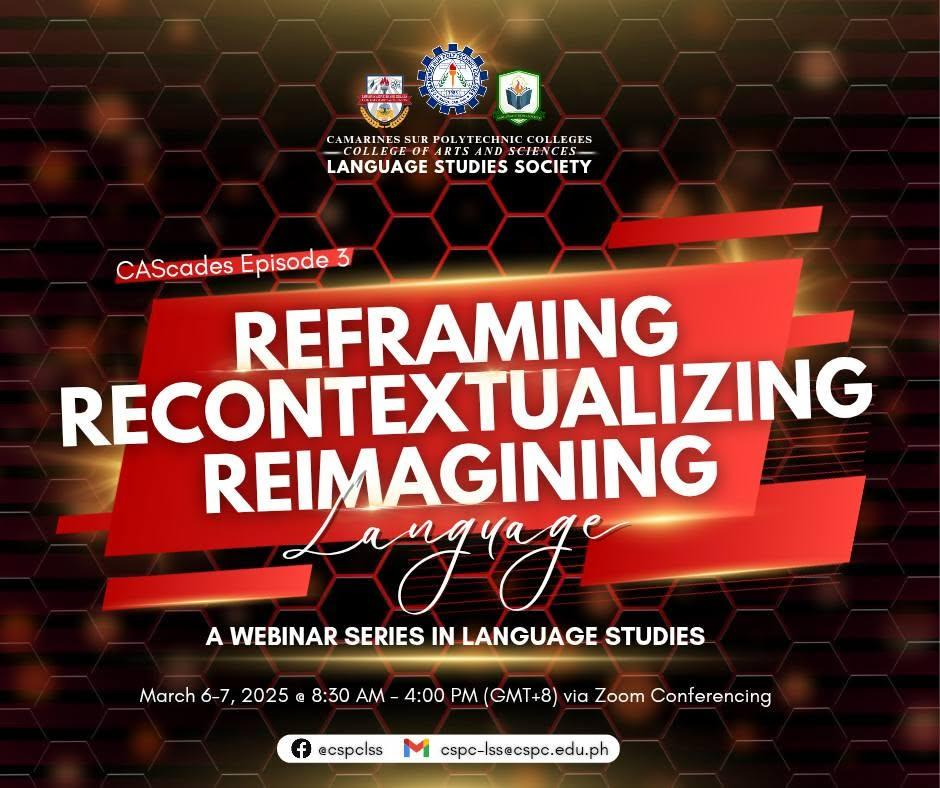embellishment: (400, 736, 433, 758), (290, 736, 311, 762)
logo: (416, 34, 489, 120), (354, 64, 415, 136), (492, 61, 552, 126)
text: (40, 286, 887, 619), (199, 619, 710, 651), (320, 131, 602, 184), (140, 685, 780, 708), (115, 242, 364, 278), (439, 742, 608, 758), (315, 744, 389, 759)
underlay: (57, 199, 870, 613), (277, 735, 620, 764)
